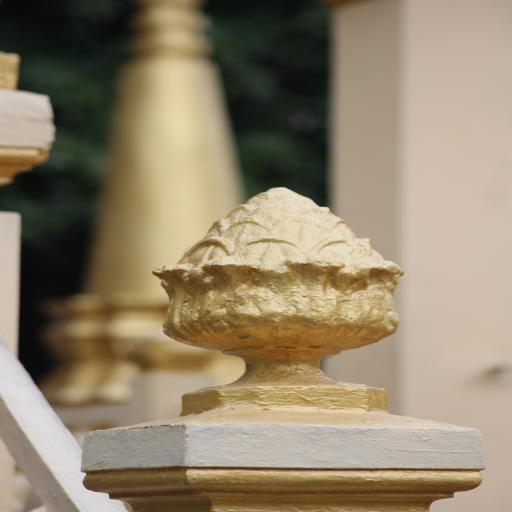hoa: (154, 187, 414, 410)
